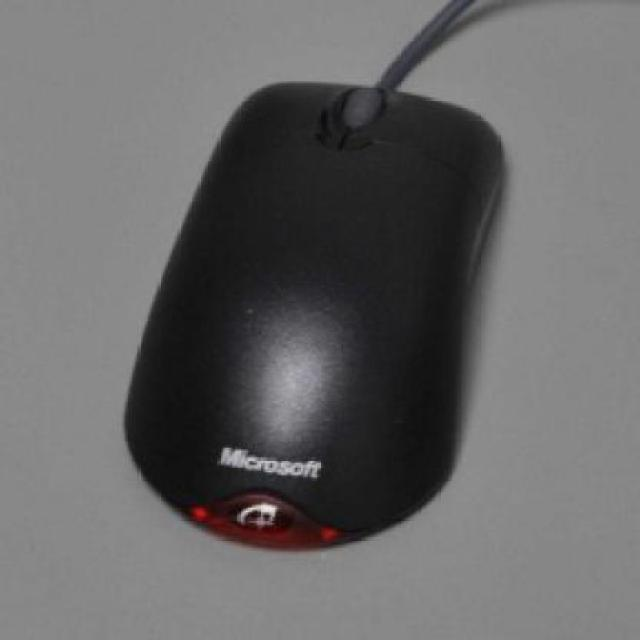mause: (117, 30, 515, 565)
